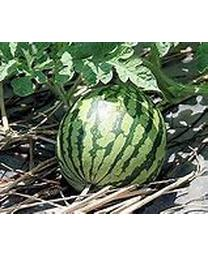watermelon: (54, 82, 168, 195)
